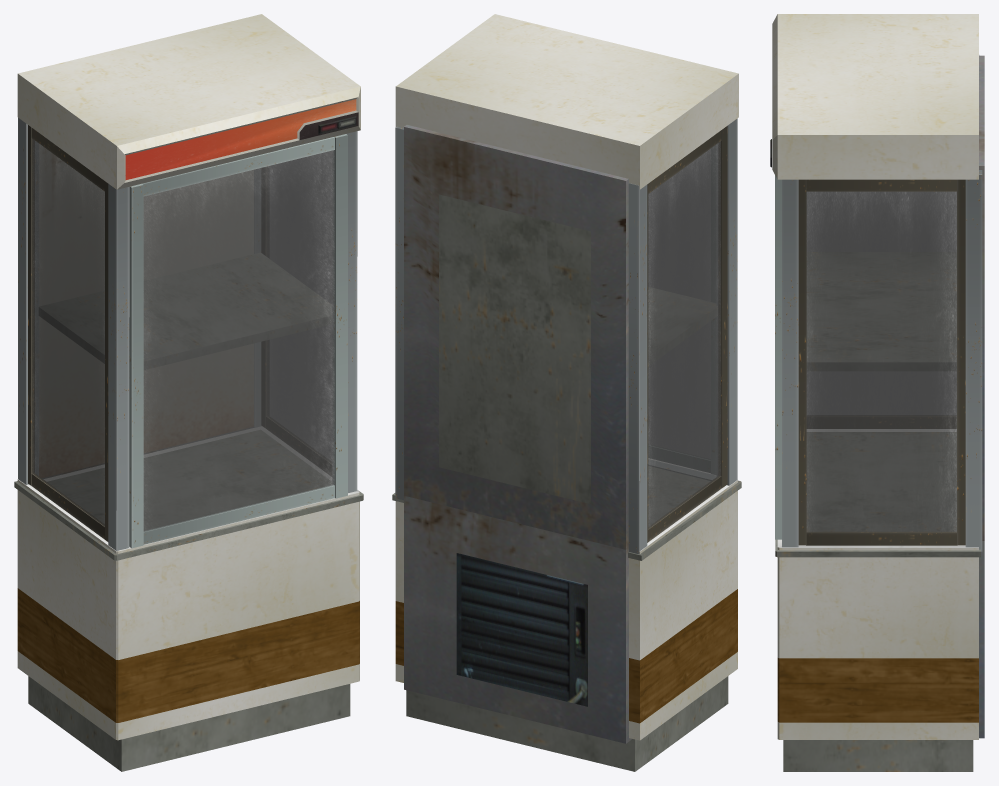
File: drinkcooler2_1.fbx
3 renders of one model, left to right at view 1: azimuth 30°, elevation 25°; view 2: azimuth 150°, elevation 25°; view 3: azimuth 270°, elevation 25°, orthographic.
Visible parts, largest first — view 1: drinkcooler2_1, drinkcooler2_2; view 2: drinkcooler2_1, drinkcooler2_2; view 3: drinkcooler2_1, drinkcooler2_2.
Part boxes in pixels (x1,y1,x2,y2): drinkcooler2_1: [14, 14, 363, 771]; drinkcooler2_2: [129, 134, 347, 548]; drinkcooler2_1: [392, 14, 741, 771]; drinkcooler2_2: [648, 145, 716, 474]; drinkcooler2_1: [770, 14, 984, 771]; drinkcooler2_2: [775, 175, 781, 539].
Size of the model in its own units: 58.31 by 141 by 42.73.
